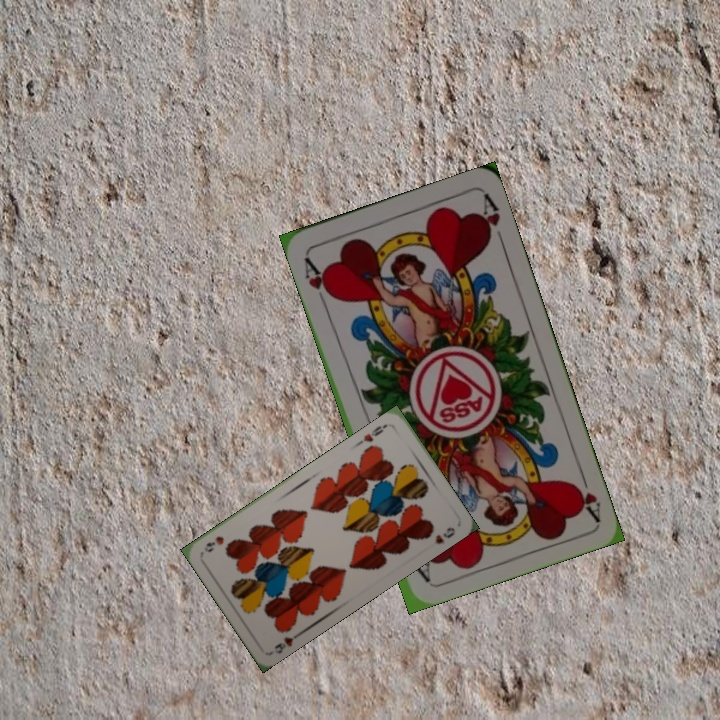H9: (354, 420, 390, 447), (270, 628, 304, 656)
HA: (567, 464, 604, 522), (299, 253, 337, 309)
